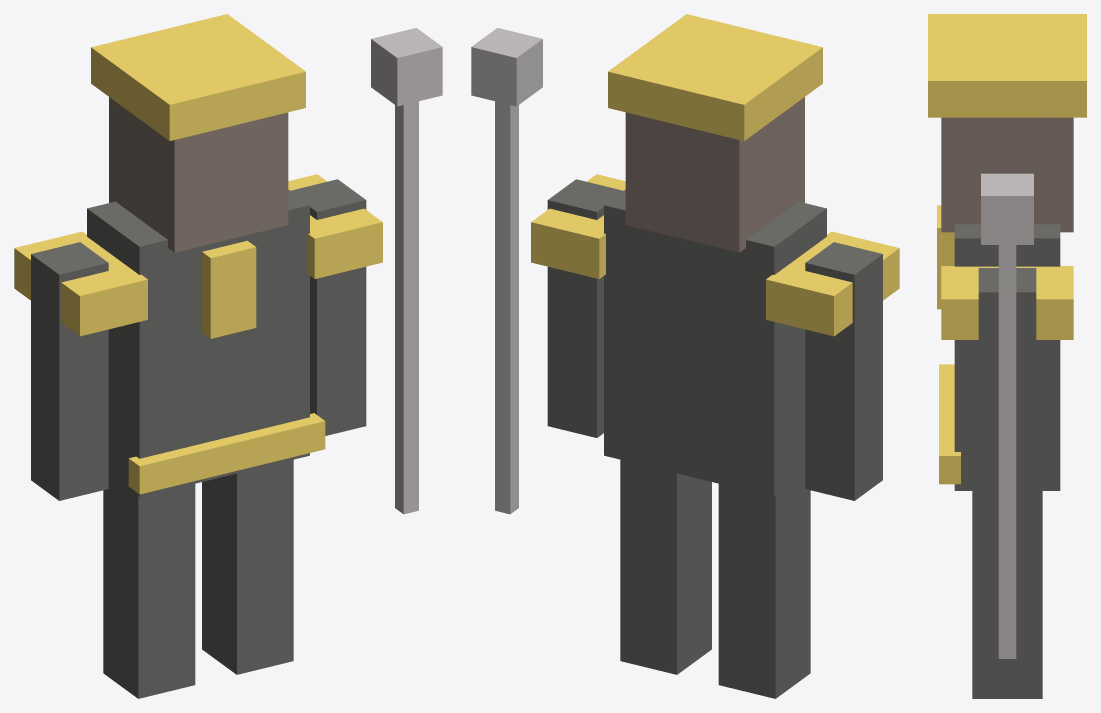
The model's file is 18_soren_chromabell_cartographer_of_tempest.glb.
3 renders of one model, left to right at view 1: azimuth 30°, elevation 25°; view 2: azimuth 150°, elevation 25°; view 3: azimuth 270°, elevation 25°, orthographic.
Parts seen in each view (by area): view 1: Soren Chromabell, Cartographer of Tempest; view 2: Soren Chromabell, Cartographer of Tempest; view 3: Soren Chromabell, Cartographer of Tempest.
Part boxes in pixels (x1,y1,x2,y2): Soren Chromabell, Cartographer of Tempest: (14, 14, 442, 698); Soren Chromabell, Cartographer of Tempest: (471, 14, 899, 698); Soren Chromabell, Cartographer of Tempest: (928, 14, 1086, 698).
Bounding box in the file's own units: 1.11 × 1.67 × 0.3932.
